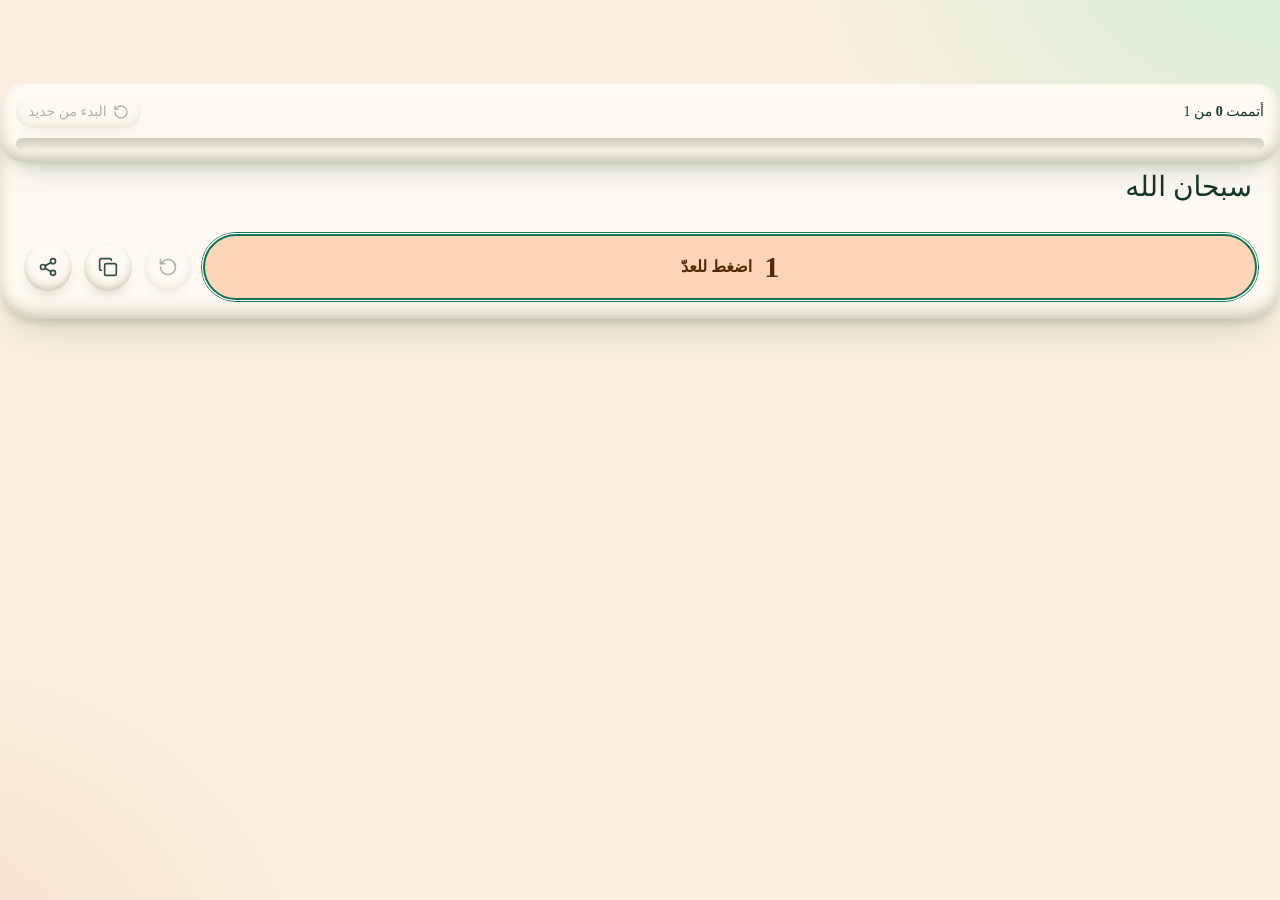
it: ZekrList reading progress › congratulates without a link when there is no next situation
Click the button "1 اضغط للعدّ".
click(730, 267)  # box left=204, top=235, right=1256, bottom=299
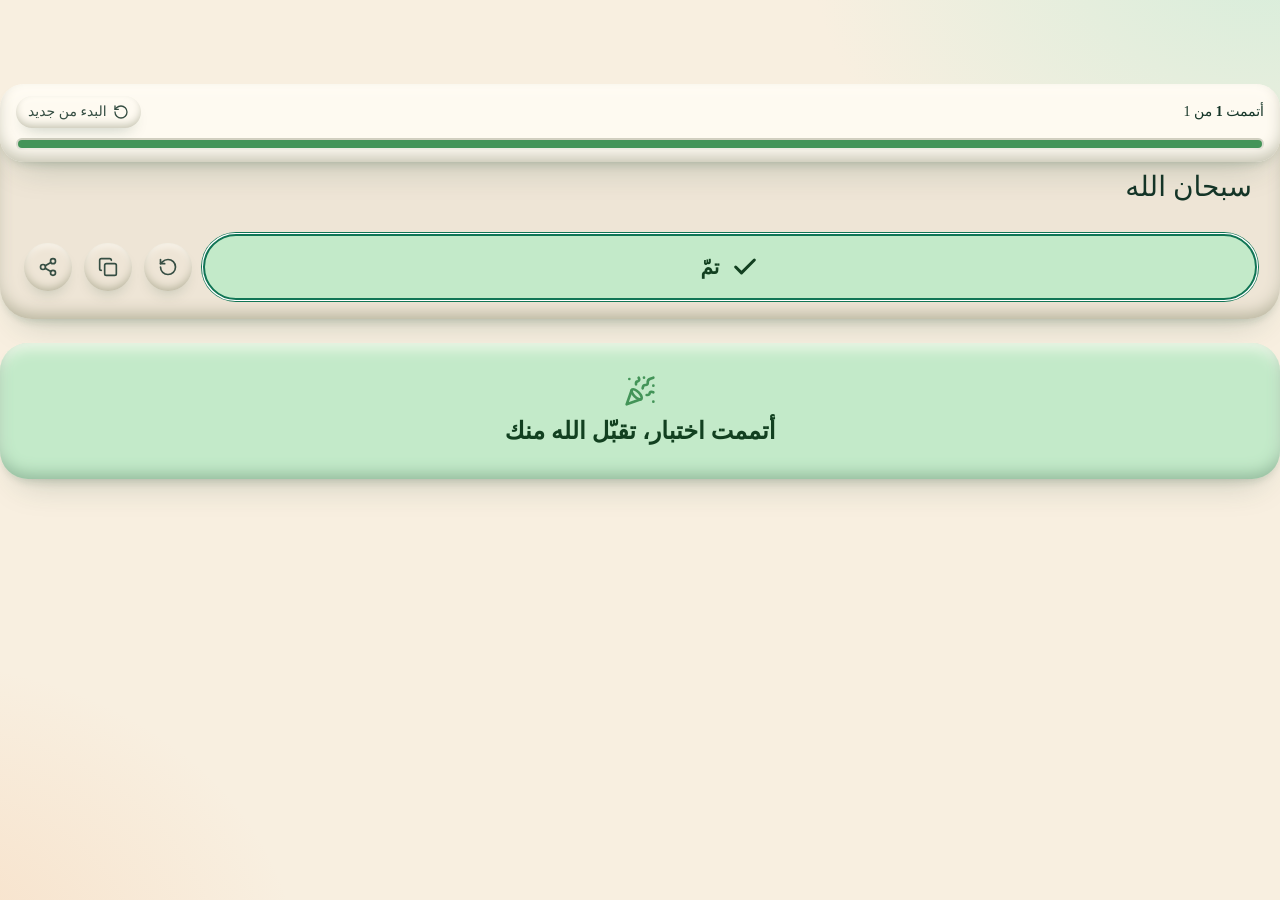
expect the text "أتممت اختبار، تقبّل الله منك" is shown: met, box left=505, top=418, right=775, bottom=444
